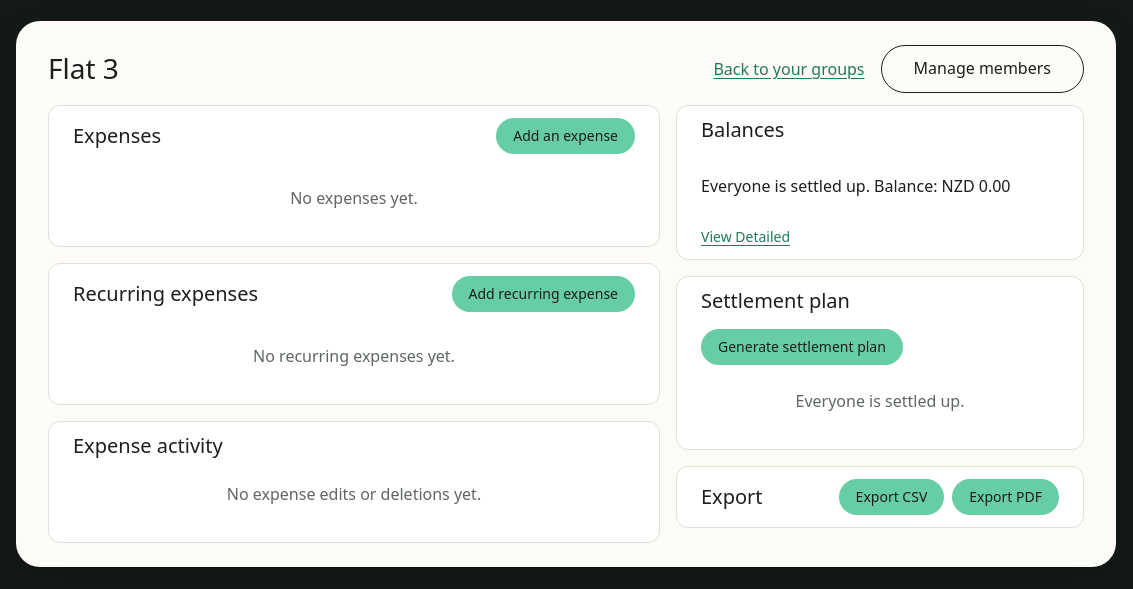
Test case: #12: a failed export shows the error and leaves the buttons usable
Step 1. Click the button "Export PDF" → [1006, 497], box [952, 479, 1059, 515]
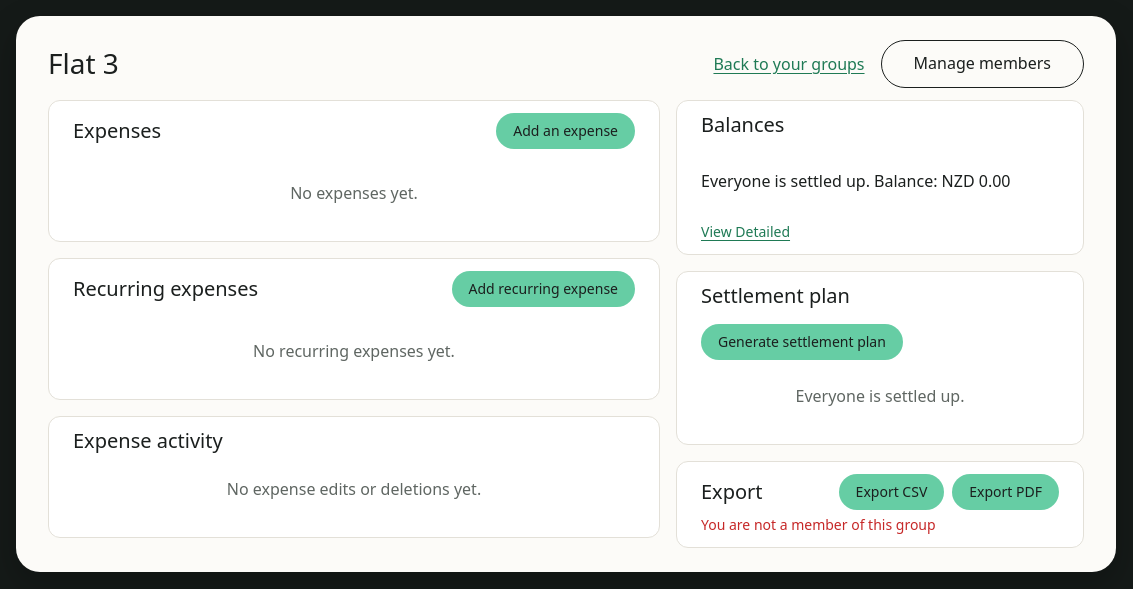
Check: the text "You are not a member of this group" is shown, box [701, 515, 936, 534]
